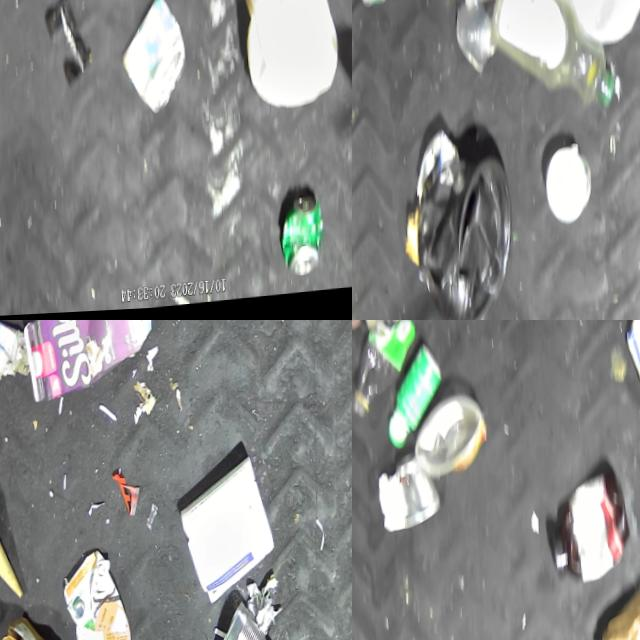can: (119, 0, 194, 124), (271, 187, 331, 295), (213, 601, 285, 640)
milk_jug: (232, 0, 347, 122), (539, 0, 640, 54)
non_white_jug: (413, 157, 521, 320), (20, 320, 156, 406), (62, 547, 141, 640)
plastic_bottle: (352, 320, 418, 420)
